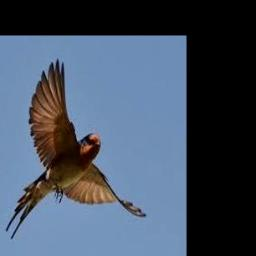Swallow: (6, 59, 147, 240)
